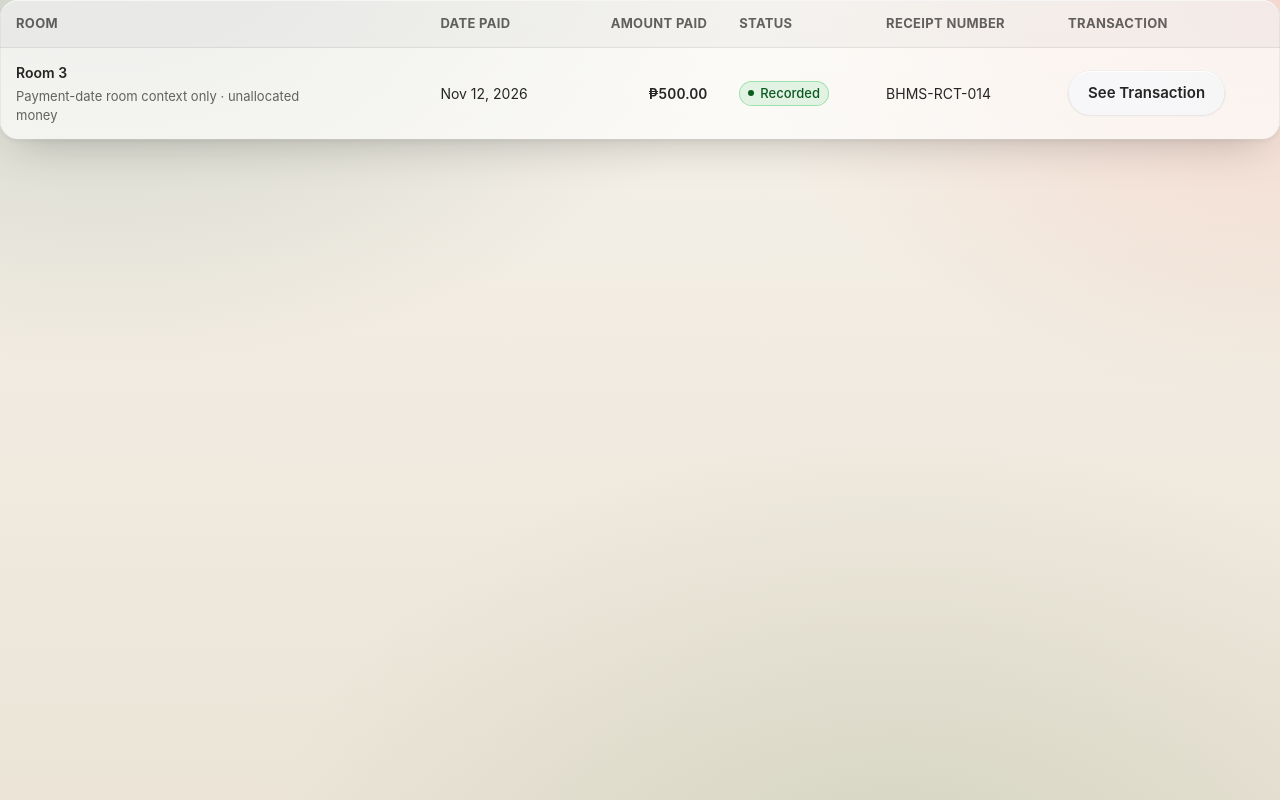
Test: Payment History transaction dialog › labels an unallocated advance without inventing a billing category
The image size is (1280, 800).
Click the button "See Transaction". click: [1147, 93]
box: [1068,71,1225,115]
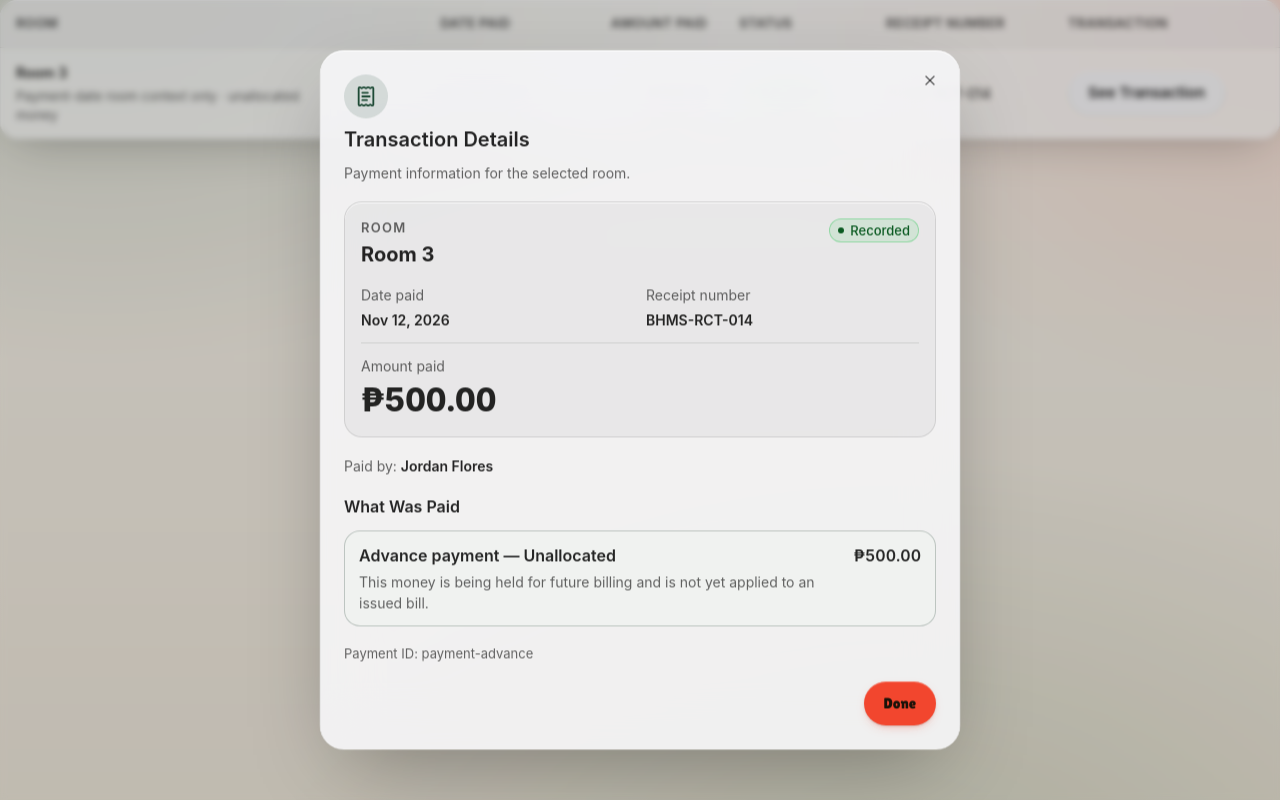
Result: the dialog "Transaction Details" shows "Advance payment — Unallocated" at [359,546,616,566]
Result: the dialog "Transaction Details" shows "₱500.00" at [361,381,496,420]
Result: the dialog "Transaction Details" shows "Paid by: Jordan Flores" at [320,50,960,750]
